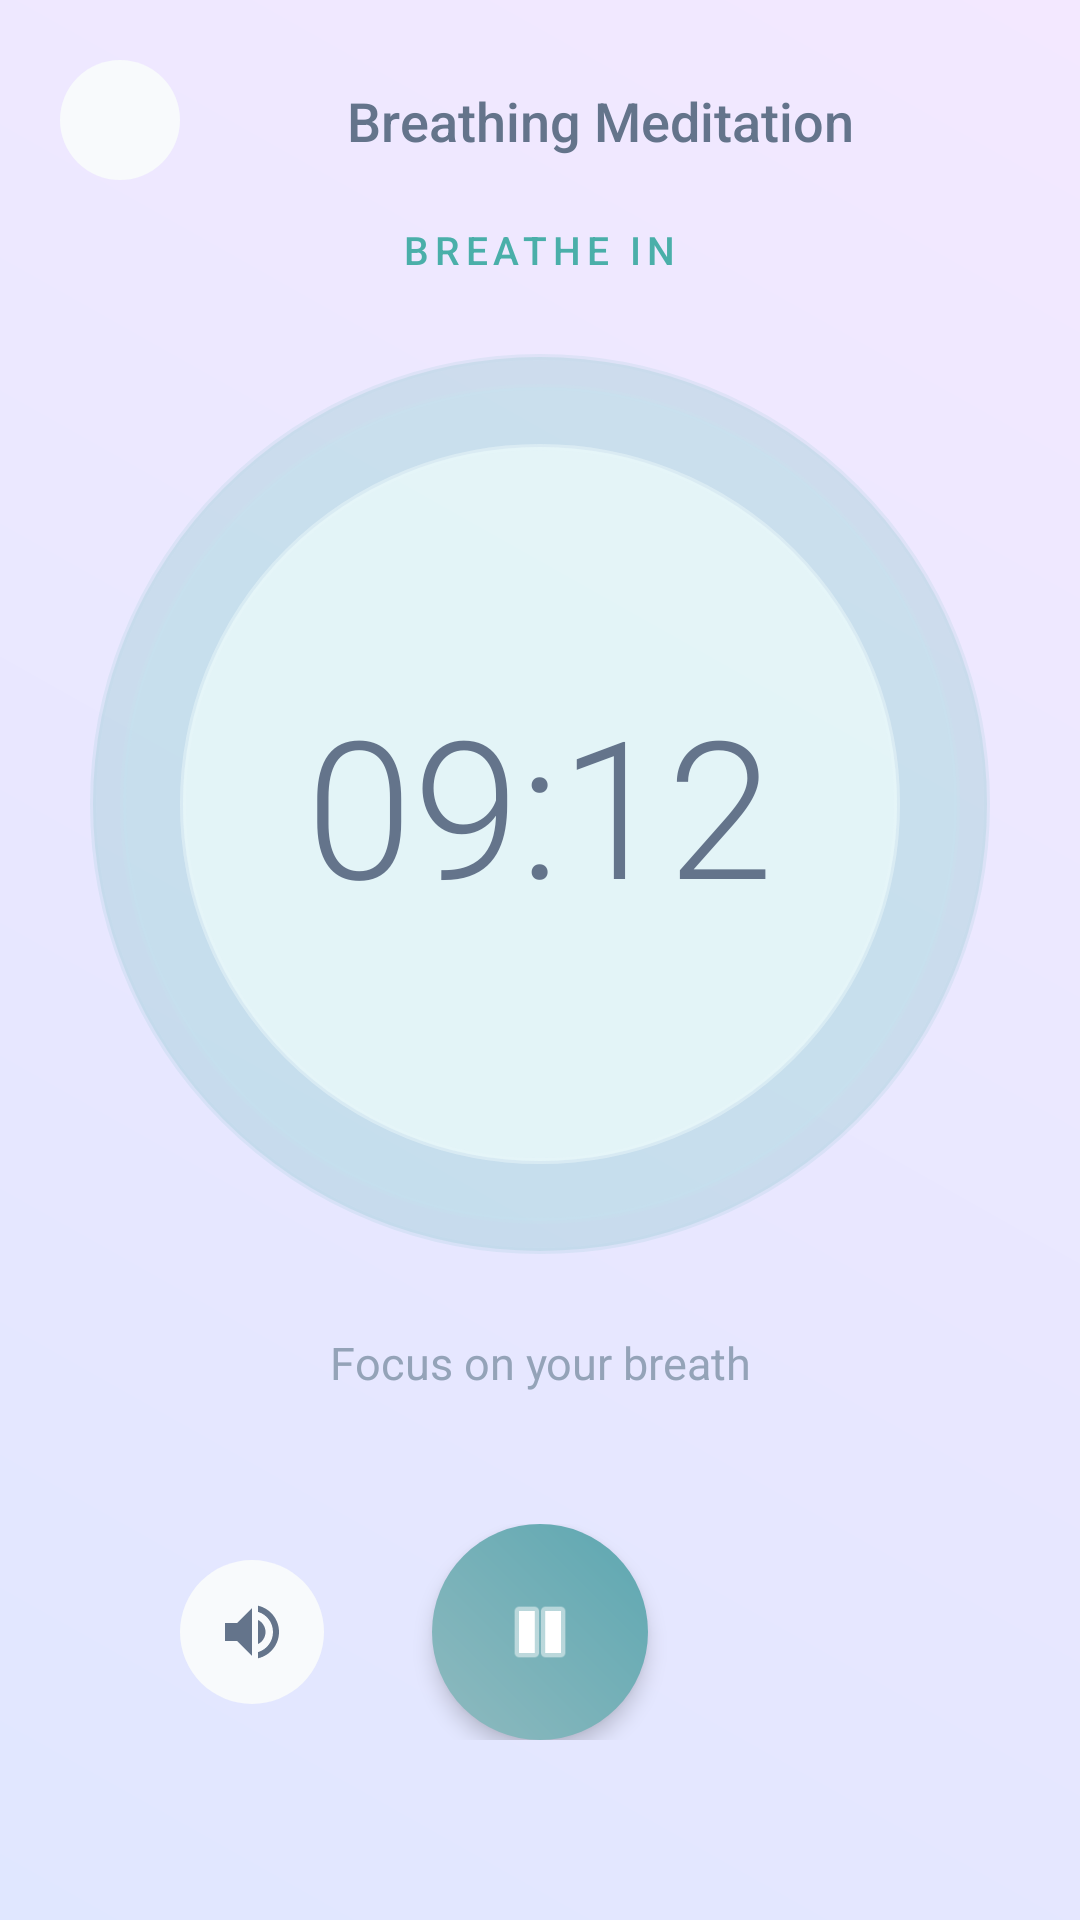

Icon click points for this 1080w x 1920h phone screenshot, format (x=x, y=y):
pause: (x=540, y=1632)
volume up: (x=252, y=1632)
